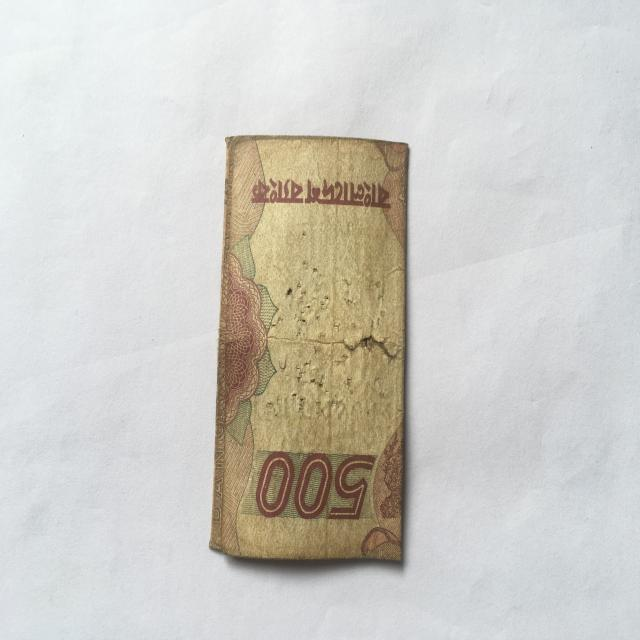Taka: (218, 120, 410, 570)
